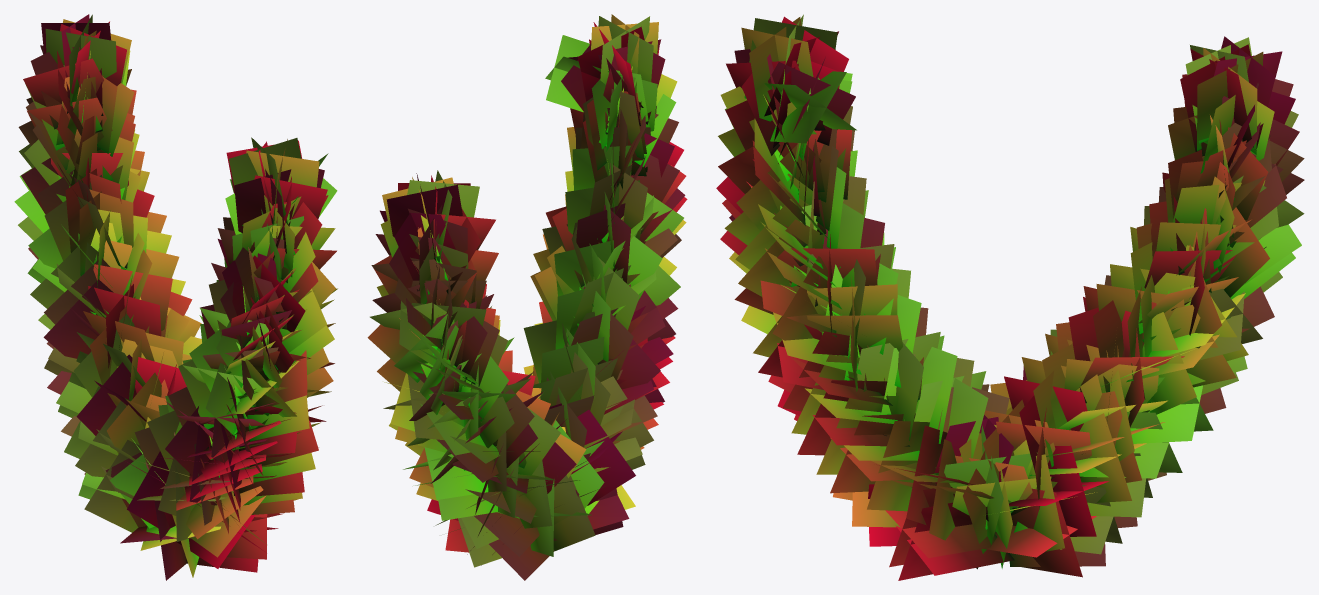
The model's file is URP_P4_Tree_13_LOD_3.fbx.
3 renders of one model, left to right at view 1: azimuth 30°, elevation 25°; view 2: azimuth 150°, elevation 25°; view 3: azimuth 270°, elevation 25°, orthographic. The views are drawn at different scales.
Parts seen in each view (by area): view 1: Tree_13_LOD_3; view 2: Tree_13_LOD_3; view 3: Tree_13_LOD_3.
Boxes of the visible parts, <box> form: Tree_13_LOD_3: <box>14,14,337,580</box>; Tree_13_LOD_3: <box>367,14,687,580</box>; Tree_13_LOD_3: <box>716,14,1304,580</box>.
Size of the model in its own units: 211 by 609 by 593.
